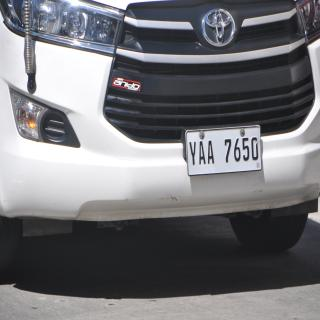license: (187, 126, 263, 177)
